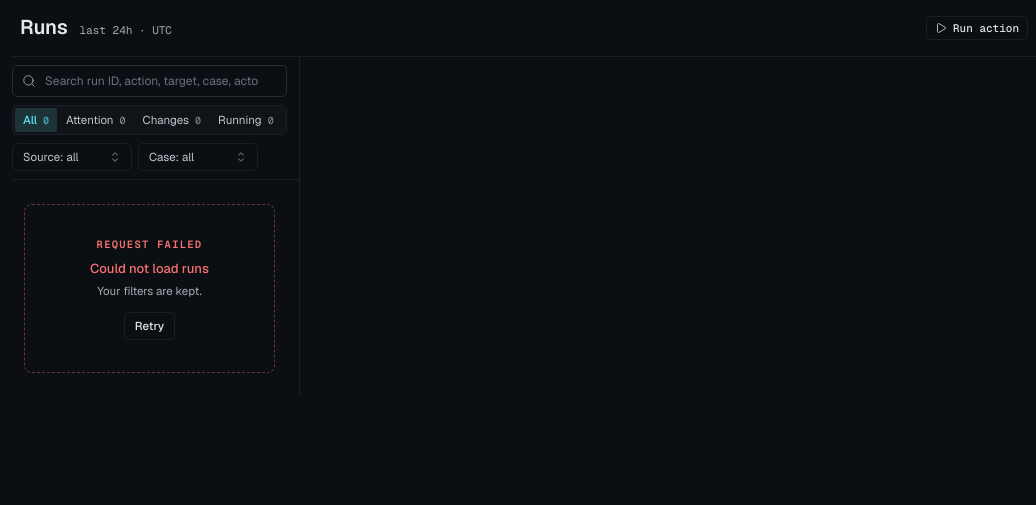
it: Runs › error with retry
Expected: the text "Could not load runs" is shown, [90,259,209,278]
Click the button "Retry" at (149, 326), box [124,312,175,340]
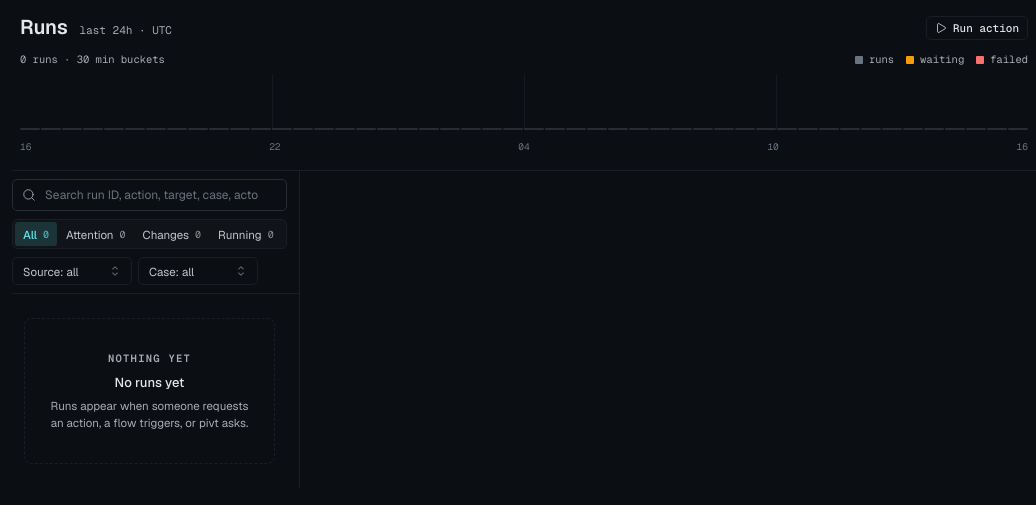
Now the text "No runs yet" is shown, box [115,373,184,392]
